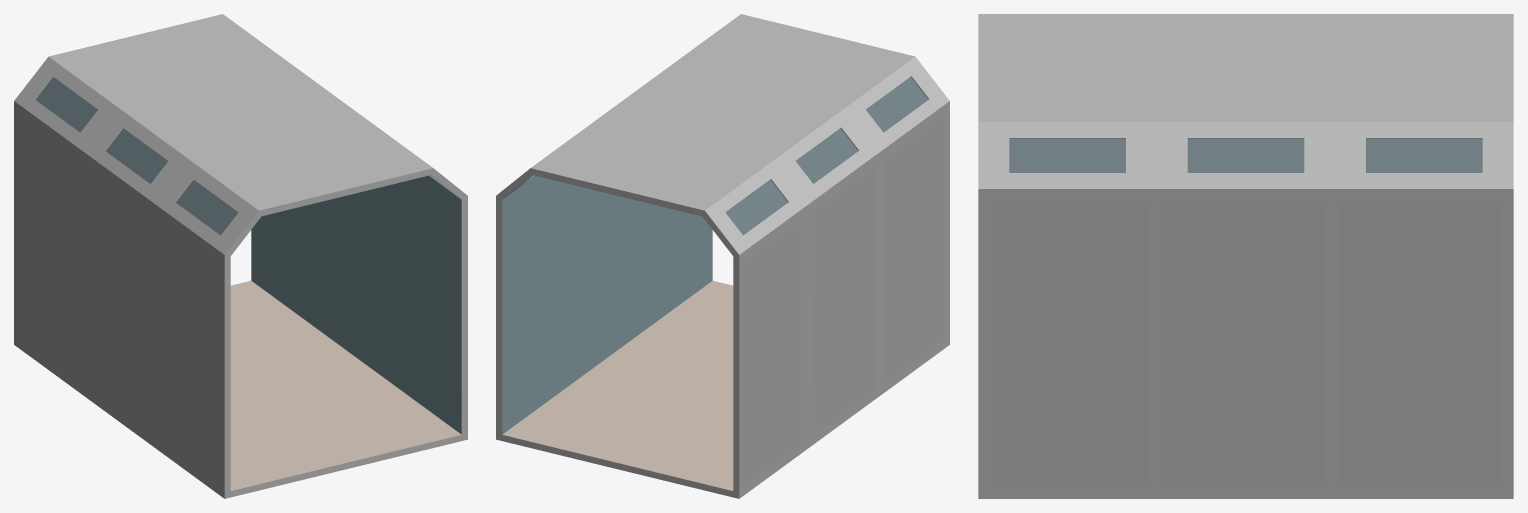
The model's file is dg-lq-Machine.glb.
3 renders of one model, left to right at view 1: azimuth 30°, elevation 25°; view 2: azimuth 150°, elevation 25°; view 3: azimuth 270°, elevation 25°, orthographic. The views are drawn at different scales.
Parts seen in each view (by area): view 1: dg-lq-Machine; view 2: dg-lq-Machine; view 3: dg-lq-Machine.
Part boxes in pixels (x1,y1,x2,y2): dg-lq-Machine: [14, 14, 467, 498]; dg-lq-Machine: [496, 14, 949, 498]; dg-lq-Machine: [978, 14, 1513, 498].
Bounding box in the file's own units: 2 × 2.2 × 3.
Materials: 1 (1 with a texture image).
